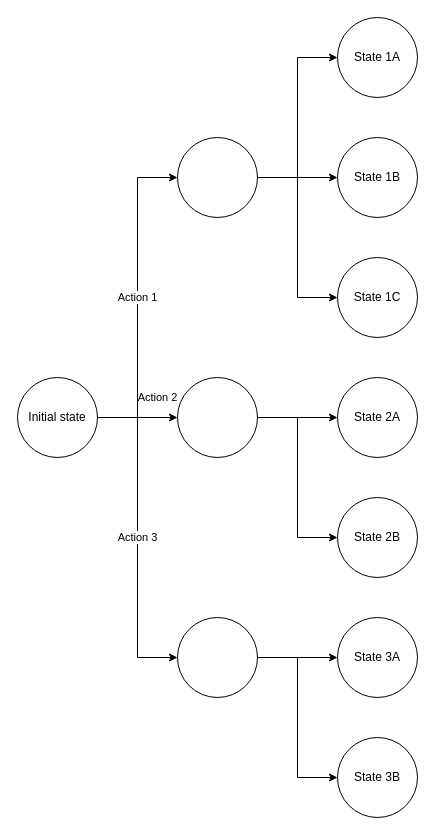
Image size: 435x835. Some labels were removed from this diagram. Here are the shapes that lost their labels. From the top down, the box of each, then its label:
(176, 136, 258, 218): State 1
(176, 376, 258, 458): State 2
(176, 616, 258, 698): State 3
